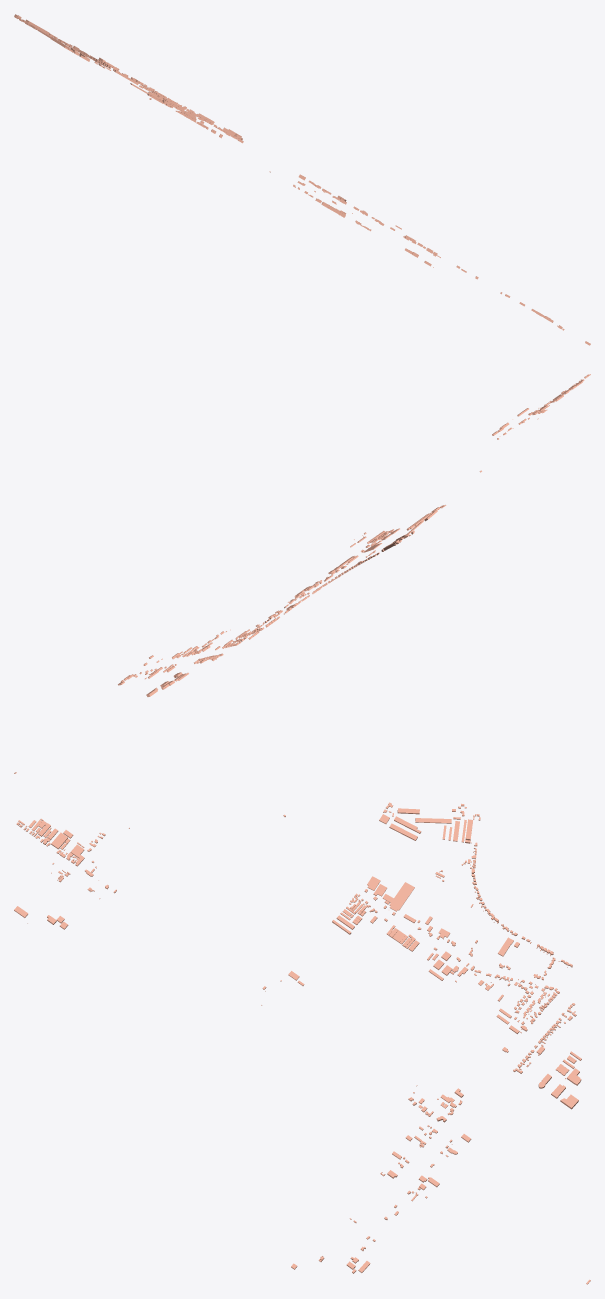
3 views of the same model, one above another, from view 1: azimuth 30°, elevation 25°; view 2: azimuth 150°, elevation 25°; view 3: azimuth 270°, elevation 25° (orthographic). The views are drawn at different scales.
Size of the model in its own units: 1863 by 1471 by 2523.
